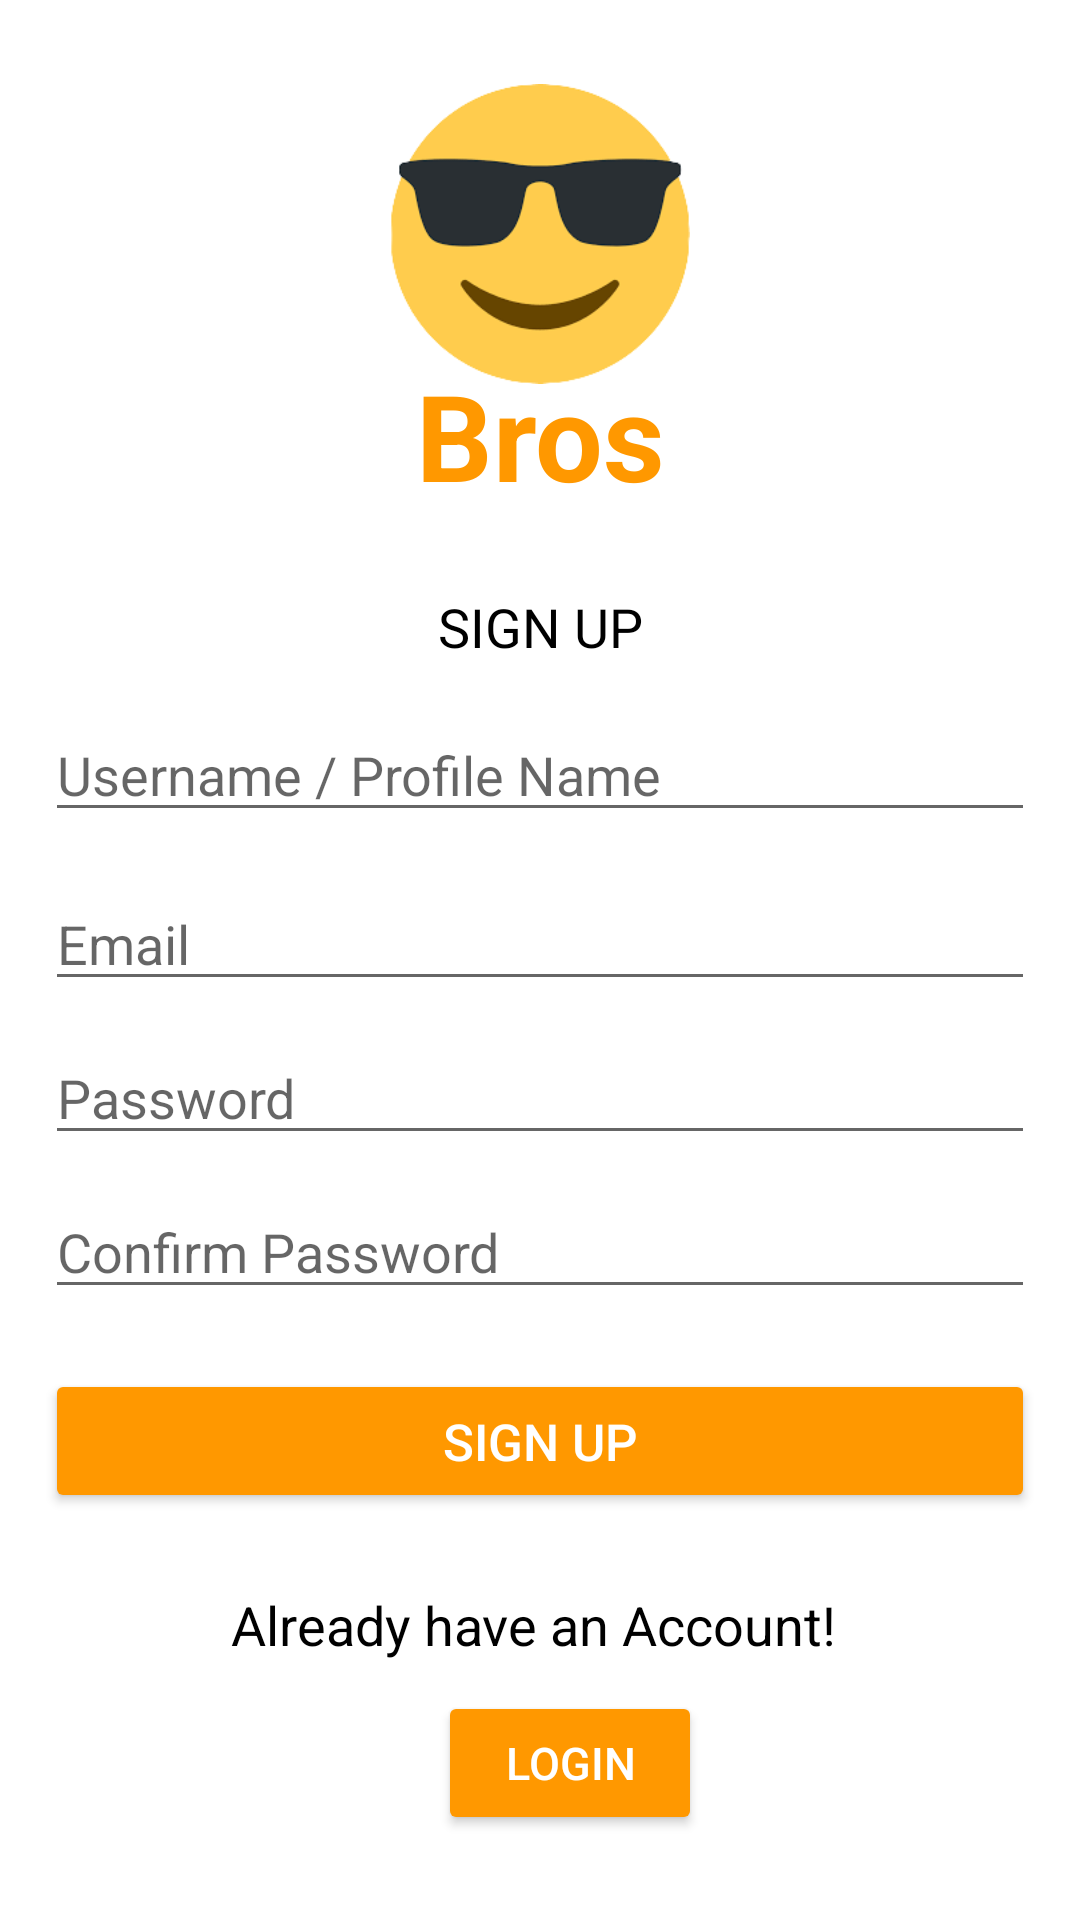

Where icons sit on this 1080 × 1920 app screen, as (x1, y1, x2, y2):
emoji: (391, 84, 690, 384)
